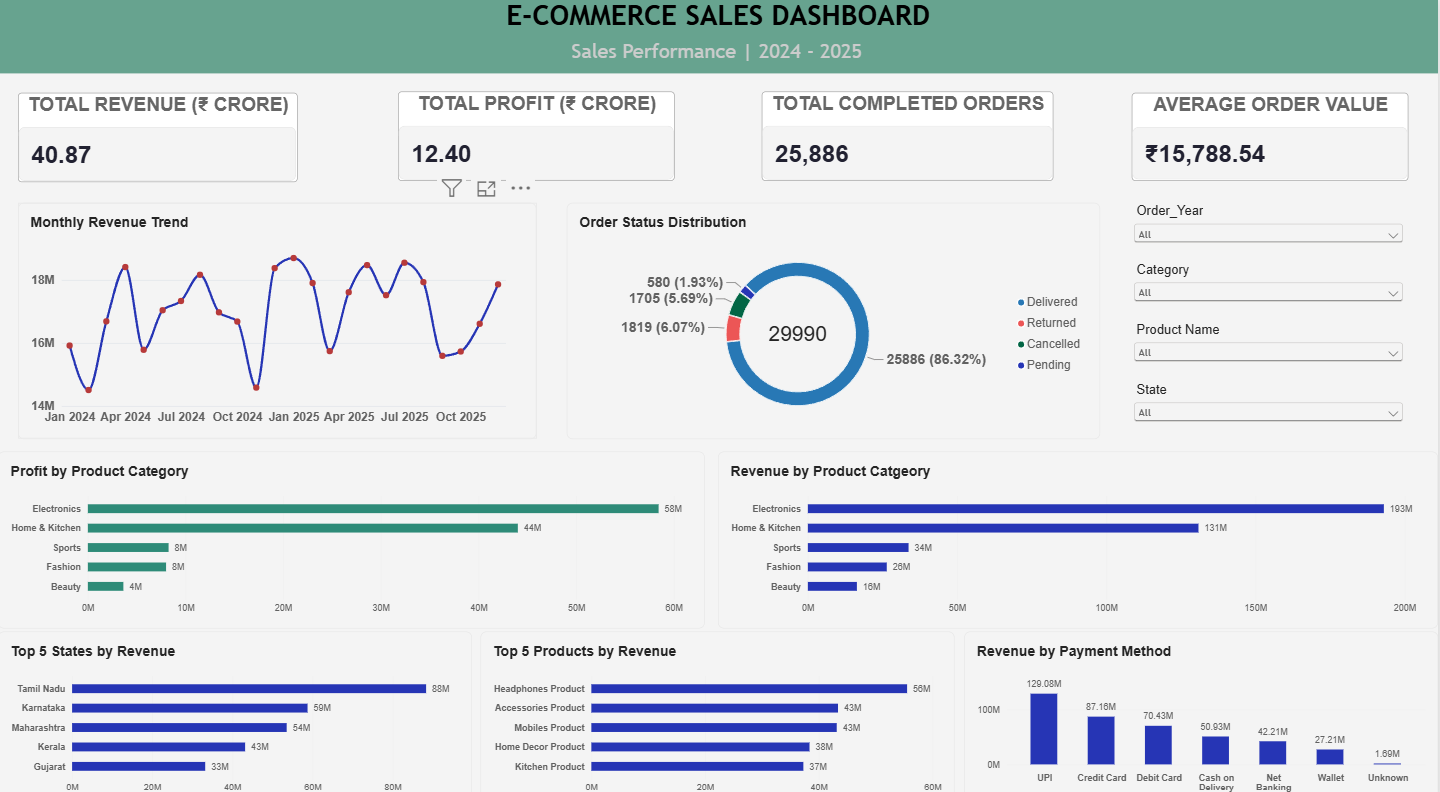

This screenshot's page, from the dashboard's own definition file:
{"tool":"powerbi","page":{"name":"E-Commerce Sales Report","canvas":[1920,1080],"ordinal":0},"visuals":[{"type":"cardVisual","title":"TOTAL REVENUE (₹ CRORE)","fields":{"Data":["orders_cleaned csv.Revenue (Cr)"]},"box":[27.1,124.9,372.6,119.4],"z":0},{"type":"cardVisual","title":"TOTAL PROFIT (₹ CRORE)","fields":{"Data":["orders_cleaned csv.Profit (Cr)"]},"box":[533.8,123.1,369.2,119.4],"z":1000},{"type":"cardVisual","title":"TOTAL COMPLETED ORDERS","fields":{"Data":["orders_cleaned csv.Completed Orders Display"]},"box":[1018.8,123.1,389.1,119.4],"z":2000},{"type":"cardVisual","title":"AVERAGE ORDER VALUE","fields":{"Data":["orders_cleaned csv.Average Order Value Display"]},"box":[1511.1,124.9,369.2,117.6],"z":3000},{"type":"lineChart","title":"Monthly Revenue Trend","fields":{"Category":["orders_cleaned csv.Order_Month"],"Y":["Sum(orders_cleaned csv.Completed_Revenue)"]},"box":[27.1,271.4,691.3,314.9],"z":4000},{"type":"clusteredBarChart","title":"Revenue by Product Catgeory","fields":{"Category":["orders_cleaned csv.Category"],"Y":["Sum(orders_cleaned csv.Completed_Revenue)"]},"box":[960,604,960,236],"z":5000},{"type":"clusteredBarChart","title":"Profit by Product Category","fields":{"Category":["orders_cleaned csv.Category"],"Y":["Sum(orders_cleaned csv.Completed_Profit)"]},"box":[0,604,942,236],"z":6000},{"type":"donutChart","title":"Order Status Distribution","fields":{"Category":["orders_cleaned csv.Order_Status"],"Y":["Count(orders_cleaned csv.Order_ID)"]},"box":[758.2,271.4,711.2,314.9],"z":7000},{"type":"clusteredBarChart","title":"Top 5 States by Revenue","fields":{"Category":["orders_cleaned csv.State"],"Y":["Sum(orders_cleaned csv.Completed_Revenue)"]},"box":[0,844,632,236],"z":8000},{"type":"clusteredBarChart","title":"Top 5 Products by Revenue","fields":{"Category":["orders_cleaned csv.Product Name"],"Y":["orders_cleaned csv.Total Completed Revenue"]},"box":[644,844,632,236],"z":9000},{"type":"clusteredColumnChart","title":"Revenue by Payment Method","fields":{"Category":["orders_cleaned csv.Payment_Method"],"Y":["orders_cleaned csv.Total Completed Revenue"]},"box":[1288,844,632,236],"z":10000},{"type":"textbox","box":[0,0,1920.1,99.5],"z":11000},{"type":"slicer","fields":{"Values":["orders_cleaned csv.Order_Year"]},"box":[1510.8,271.7,368.4,80.3],"z":11001},{"type":"slicer","fields":{"Values":["orders_cleaned csv.Category"]},"box":[1510.8,349.9,368.4,80.3],"z":11002},{"type":"slicer","fields":{"Values":["orders_cleaned csv.Product Name"]},"box":[1510.8,430.2,368.4,80.3],"z":11003},{"type":"slicer","fields":{"Values":["orders_cleaned csv.State"]},"box":[1510.8,510.5,368.4,80.3],"z":11004}]}

Visuals, with their boxes in screenshot pixels (x1, y1, x2, y2), scaled from the page's 1920x1080 canvas onto the 1440x792 screenshot:
"TOTAL REVENUE (₹ CRORE)" cardVisual: Rect(20, 92, 300, 179)
"TOTAL PROFIT (₹ CRORE)" cardVisual: Rect(400, 90, 677, 178)
"TOTAL COMPLETED ORDERS" cardVisual: Rect(764, 90, 1056, 178)
"AVERAGE ORDER VALUE" cardVisual: Rect(1133, 92, 1410, 178)
"Monthly Revenue Trend" lineChart: Rect(20, 199, 539, 430)
"Revenue by Product Catgeory" clusteredBarChart: Rect(720, 443, 1439, 616)
"Profit by Product Category" clusteredBarChart: Rect(0, 443, 706, 616)
"Order Status Distribution" donutChart: Rect(569, 199, 1102, 430)
"Top 5 States by Revenue" clusteredBarChart: Rect(0, 619, 474, 791)
"Top 5 Products by Revenue" clusteredBarChart: Rect(483, 619, 957, 791)
"Revenue by Payment Method" clusteredColumnChart: Rect(966, 619, 1439, 791)
textbox: Rect(0, 0, 1439, 73)
slicer - orders_cleaned csv.Order_Year: Rect(1133, 199, 1409, 258)
slicer - orders_cleaned csv.Category: Rect(1133, 257, 1409, 315)
slicer - orders_cleaned csv.Product Name: Rect(1133, 315, 1409, 374)
slicer - orders_cleaned csv.State: Rect(1133, 374, 1409, 433)
